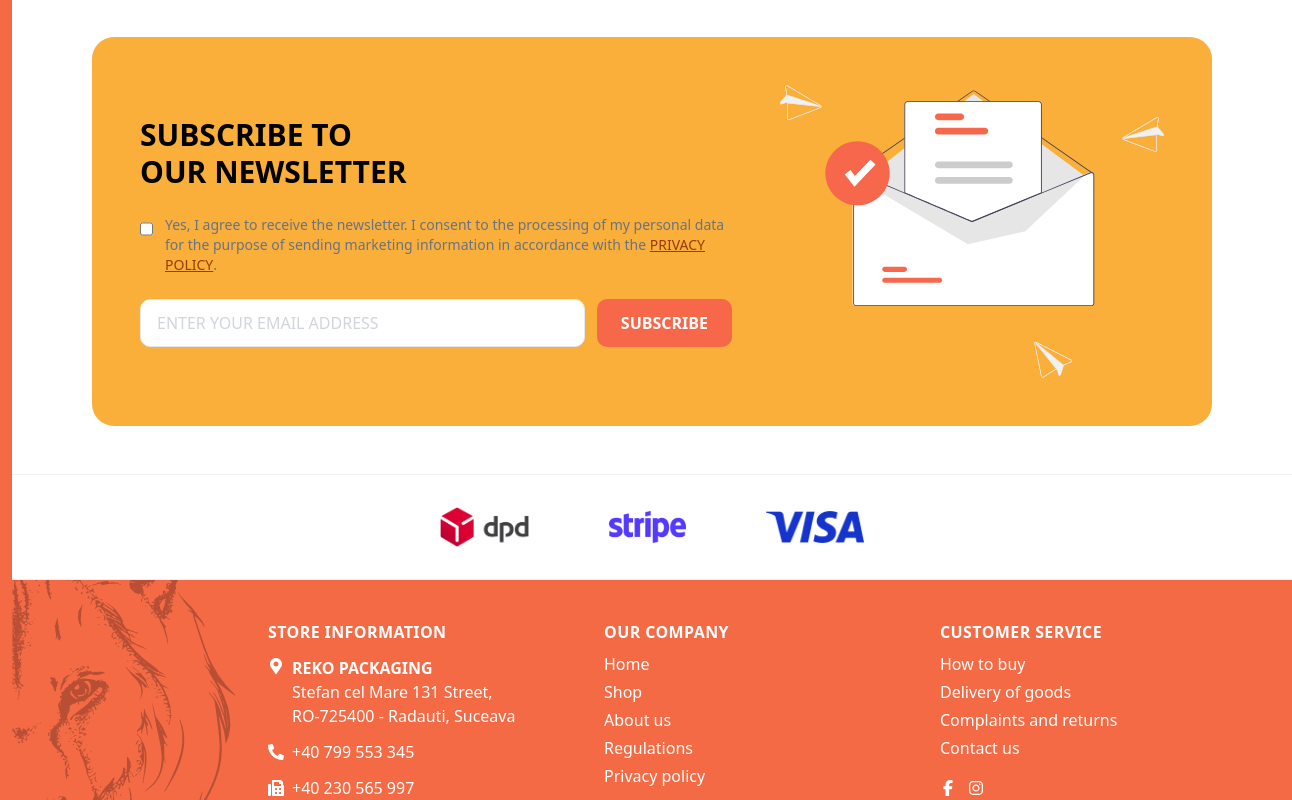
Test case: Home page – newsletter › afișează eroare dacă lipsește consimțământul
This screenshot has width=1292, height=800.
(page scrolled)
In the field with placeholder "ENTER YOUR EMAIL ADDRESS": {"x": 363, "y": 323} [140,299,585,347], type "newsletter-test@example.com"
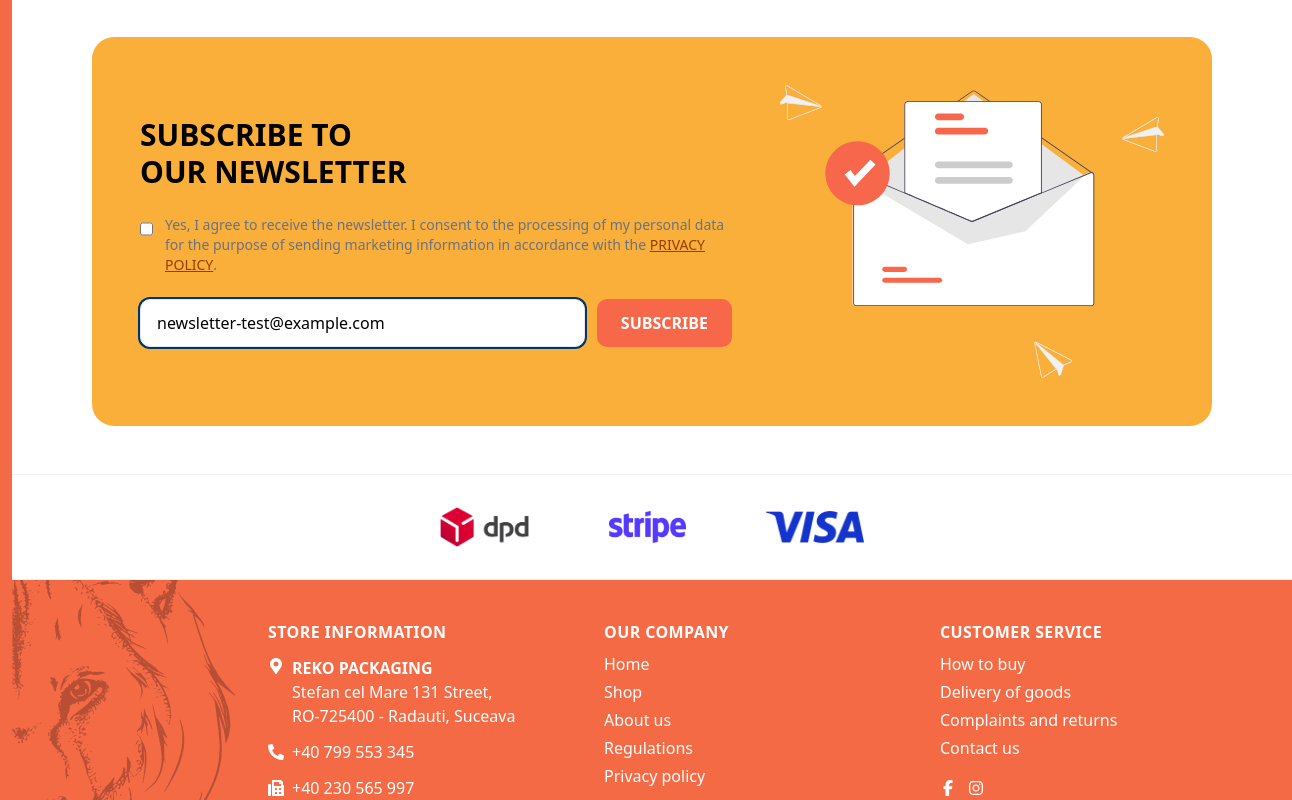
Click the button "SUBSCRIBE": {"x": 665, "y": 323} [597,299,732,347]
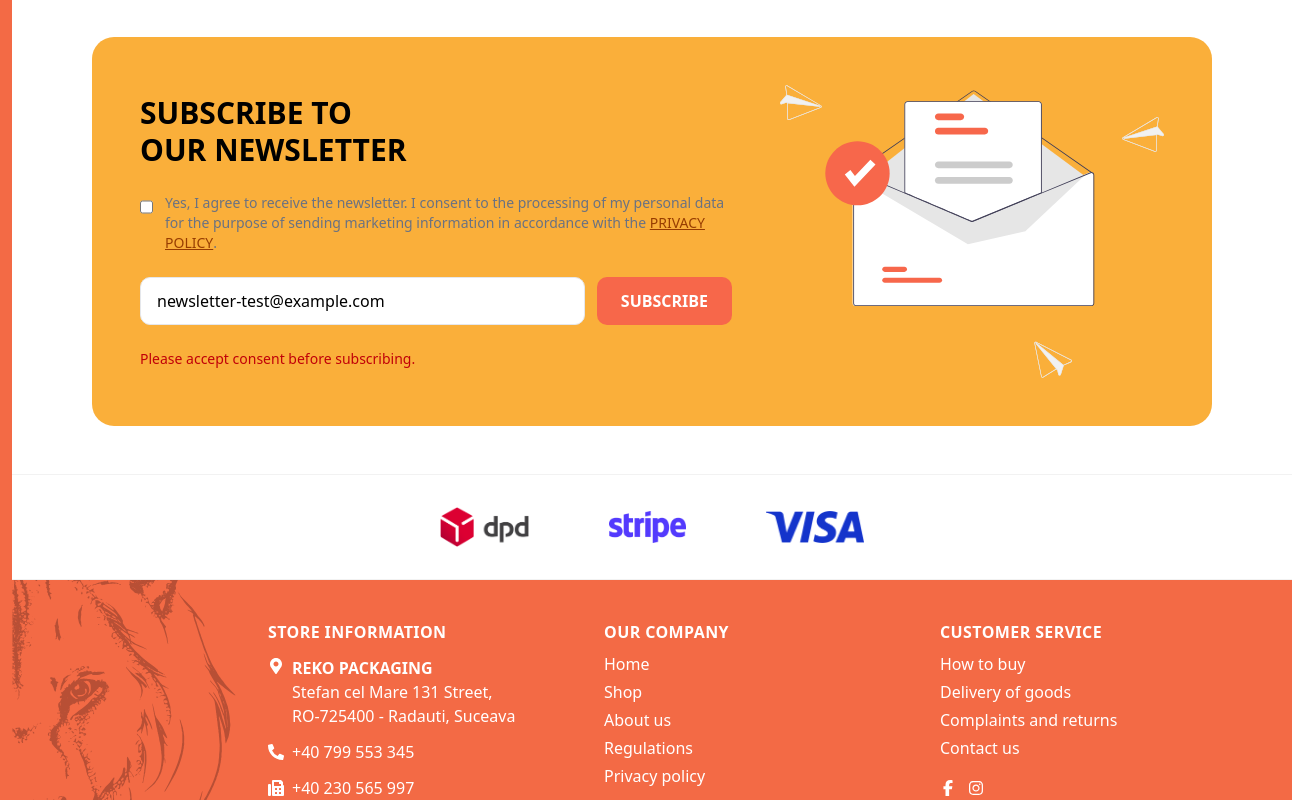
Now the text "Please accept consent before subscribing." is shown, box [140,349,415,368]
